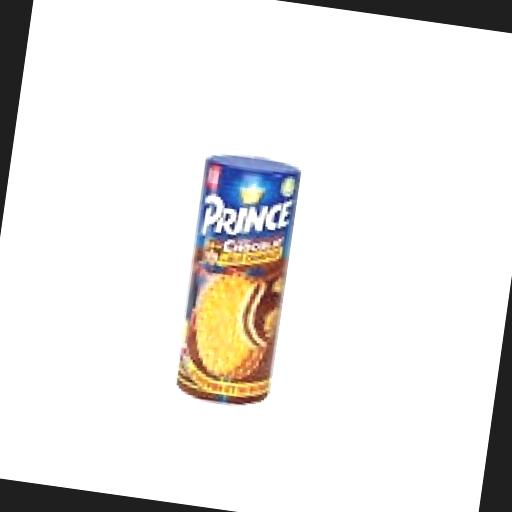prince: (100, 102, 406, 479)
